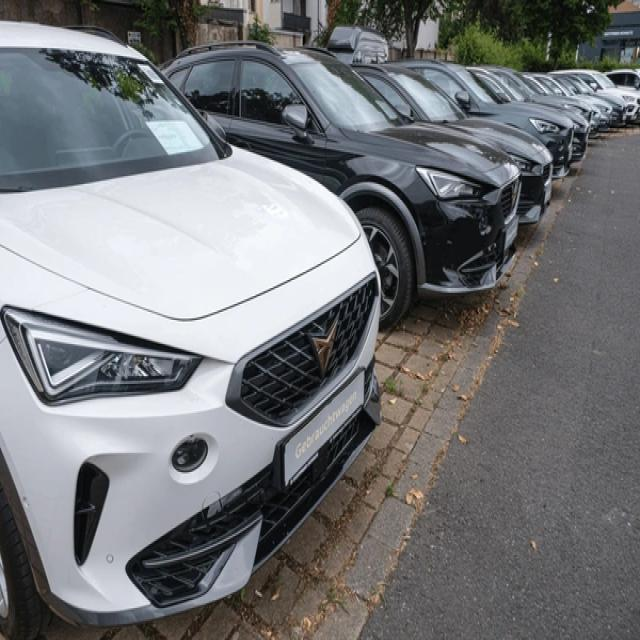cupra: (307, 312, 341, 373)
